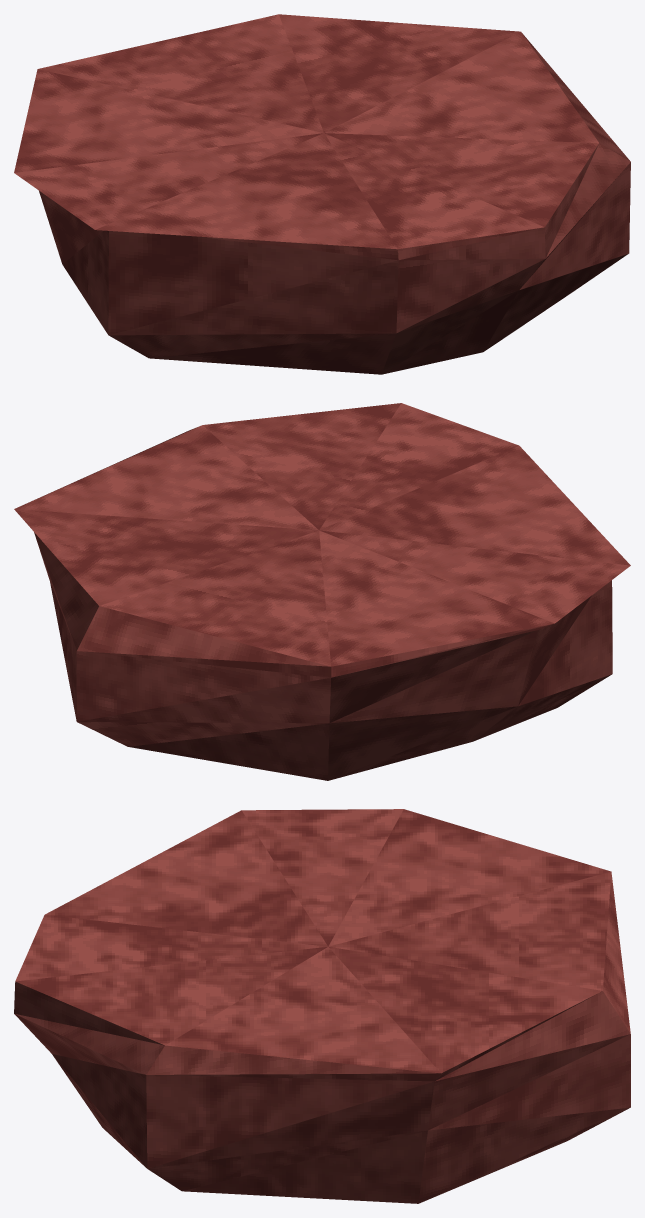
File: boulder.glb
3 renders of one model, top to bottom at view 1: azimuth 30°, elevation 25°; view 2: azimuth 150°, elevation 25°; view 3: azimuth 270°, elevation 25°, orthographic. The views are drawn at different scales.
Parts seen in each view (by area): view 1: Boulder; view 2: Boulder; view 3: Boulder.
Boxes of the visible parts, <box> form: Boulder: <box>14,14,630,374</box>; Boulder: <box>14,403,630,780</box>; Boulder: <box>14,809,630,1203</box>.
Size of what is drawn, in the model's own units: 2.54 by 0.7 by 2.51.
1 material, 1 textured.
